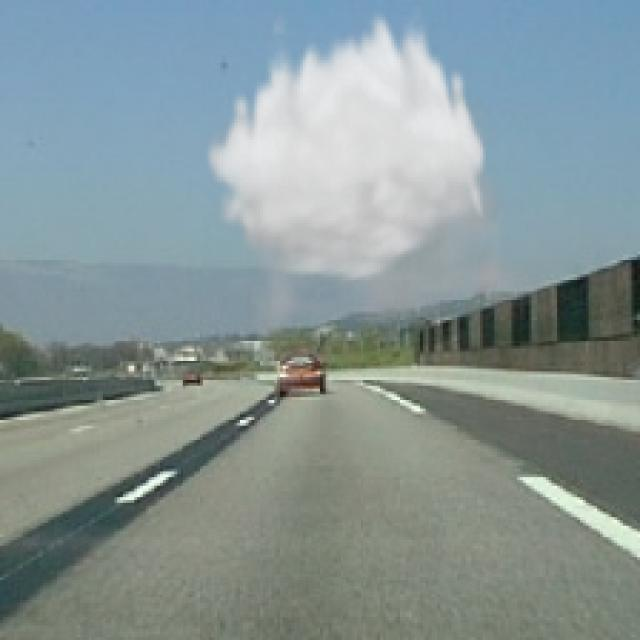smoke: (203, 6, 548, 348)
